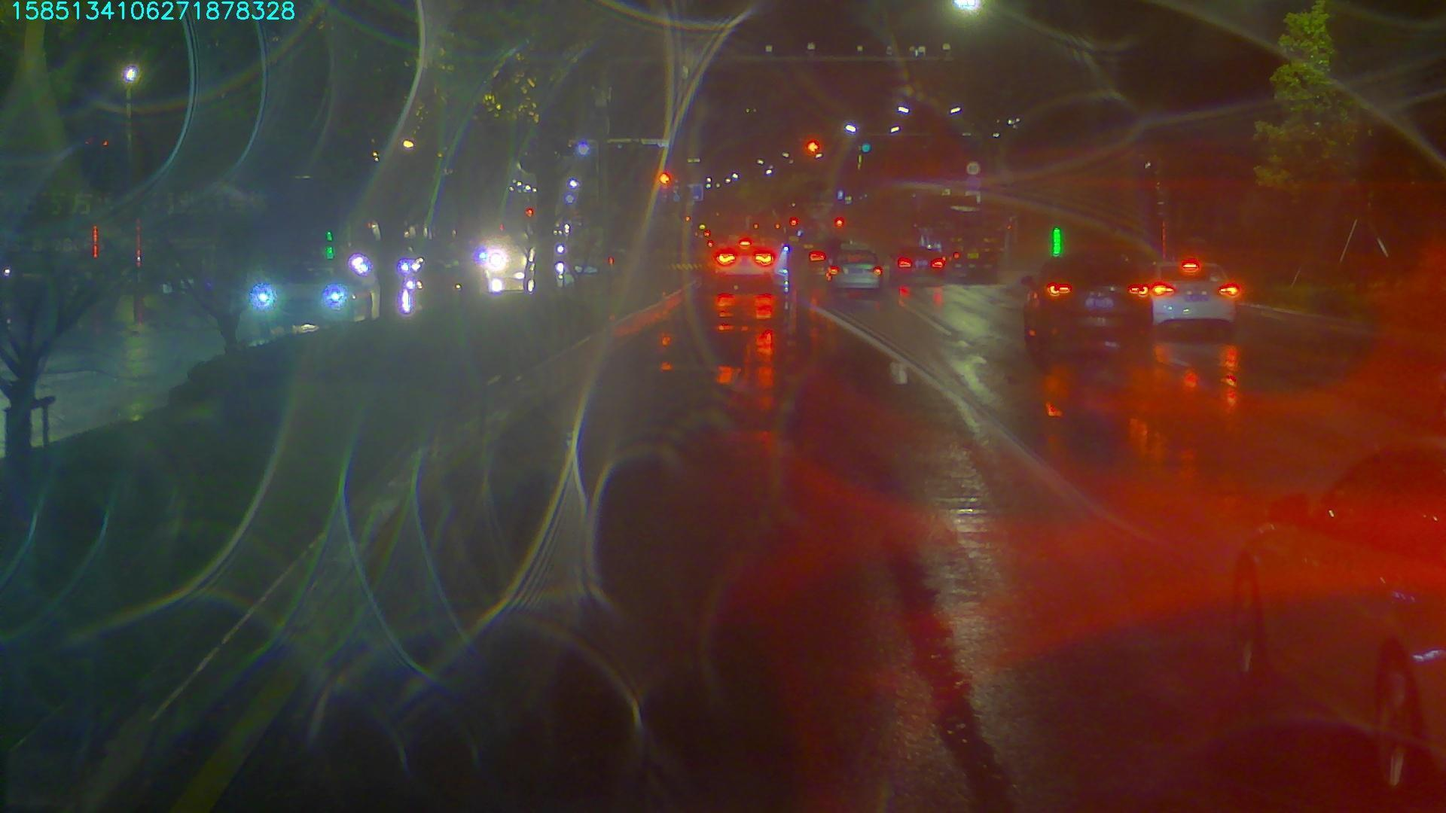green: (858, 138, 875, 163)
red: (800, 134, 824, 156)
